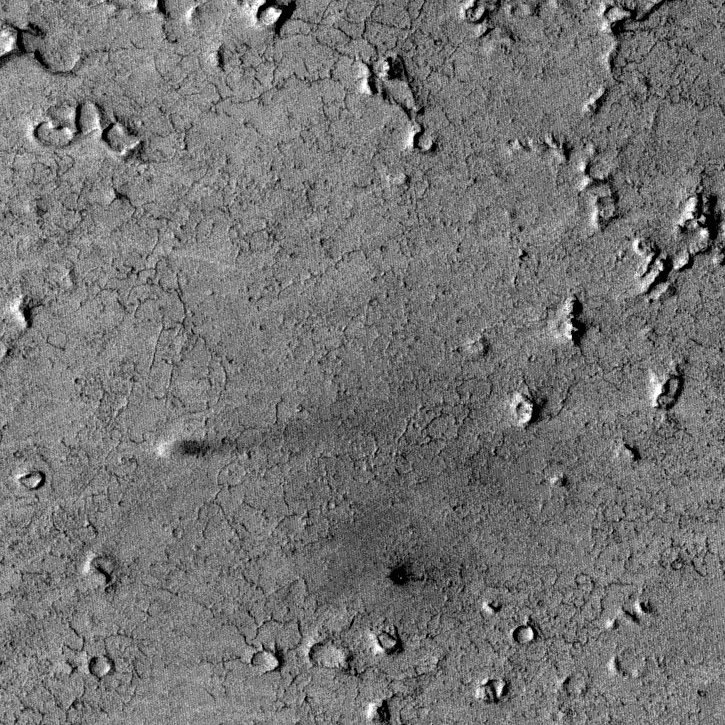dust_devil: (155, 435, 249, 461)
